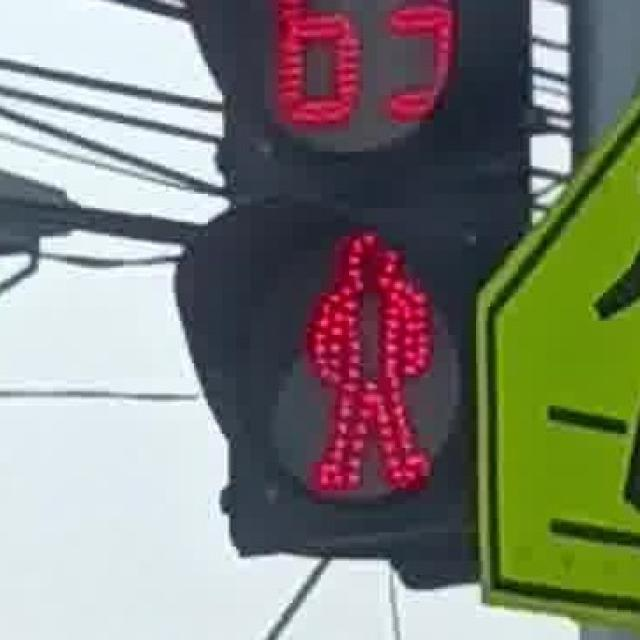red-crossing: (270, 220, 455, 504)
